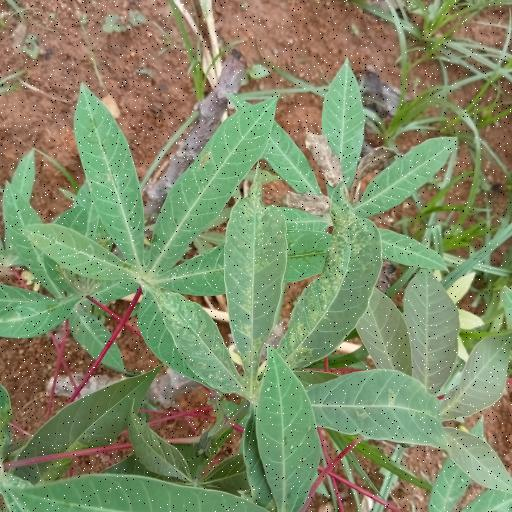Cassava_Mosaic: (44, 81, 348, 373)
